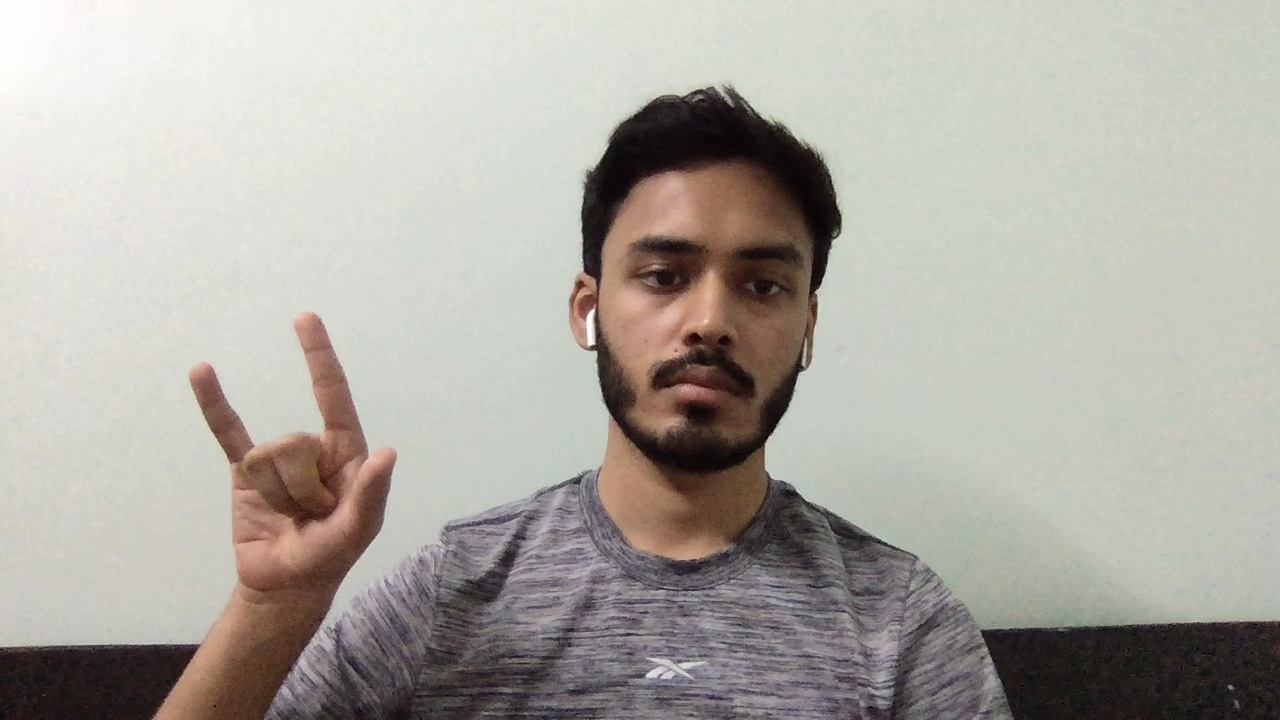I Love You: (167, 302, 414, 598)
